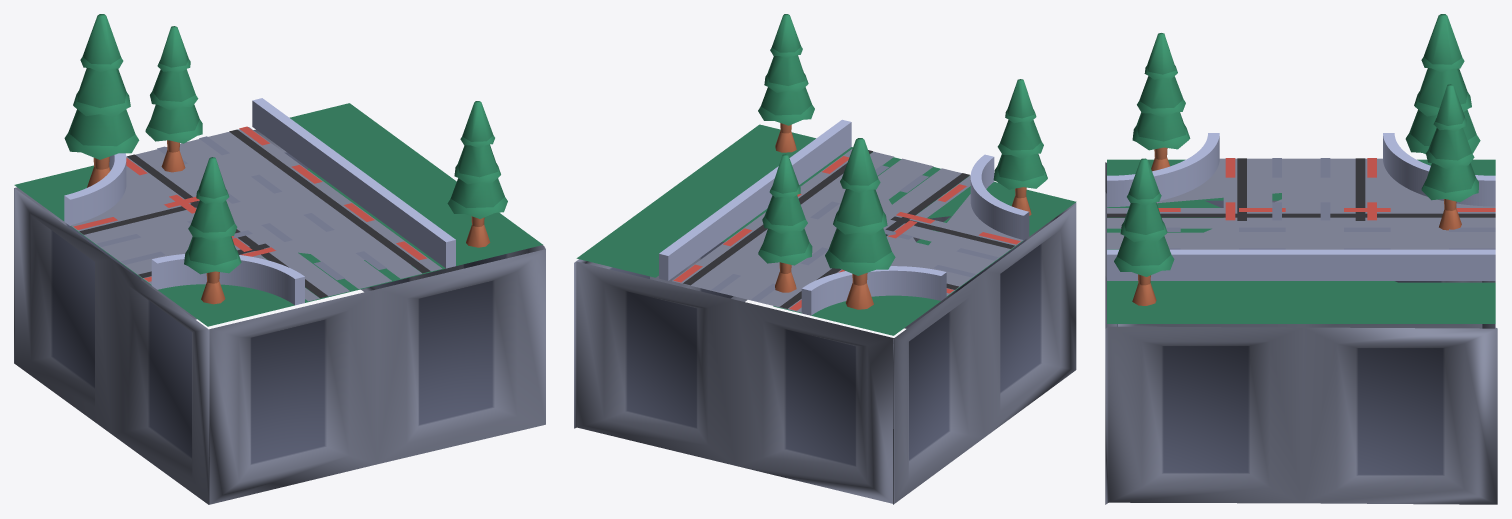
The model's file is elev-thin-3-way.glb.
3 renders of one model, left to right at view 1: azimuth 30°, elevation 25°; view 2: azimuth 150°, elevation 25°; view 3: azimuth 270°, elevation 25°, orthographic. The views are drawn at different scales.
Visible parts, largest first — view 1: track-corner.008; view 2: track-corner.008; view 3: track-corner.008.
Boxes of the visible parts, x1,y1,x2,y2 form: track-corner.008: (14,14,545,504); track-corner.008: (574,14,1076,504); track-corner.008: (1105,14,1497,504).
Size of the model in its own units: 10.06 by 10.05 by 10.1.
6 materials, 6 textured.
